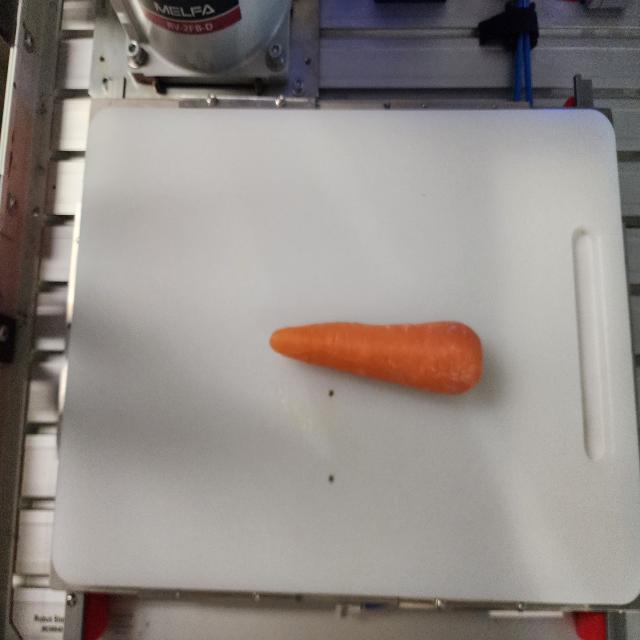carrot: (269, 319, 483, 395)
